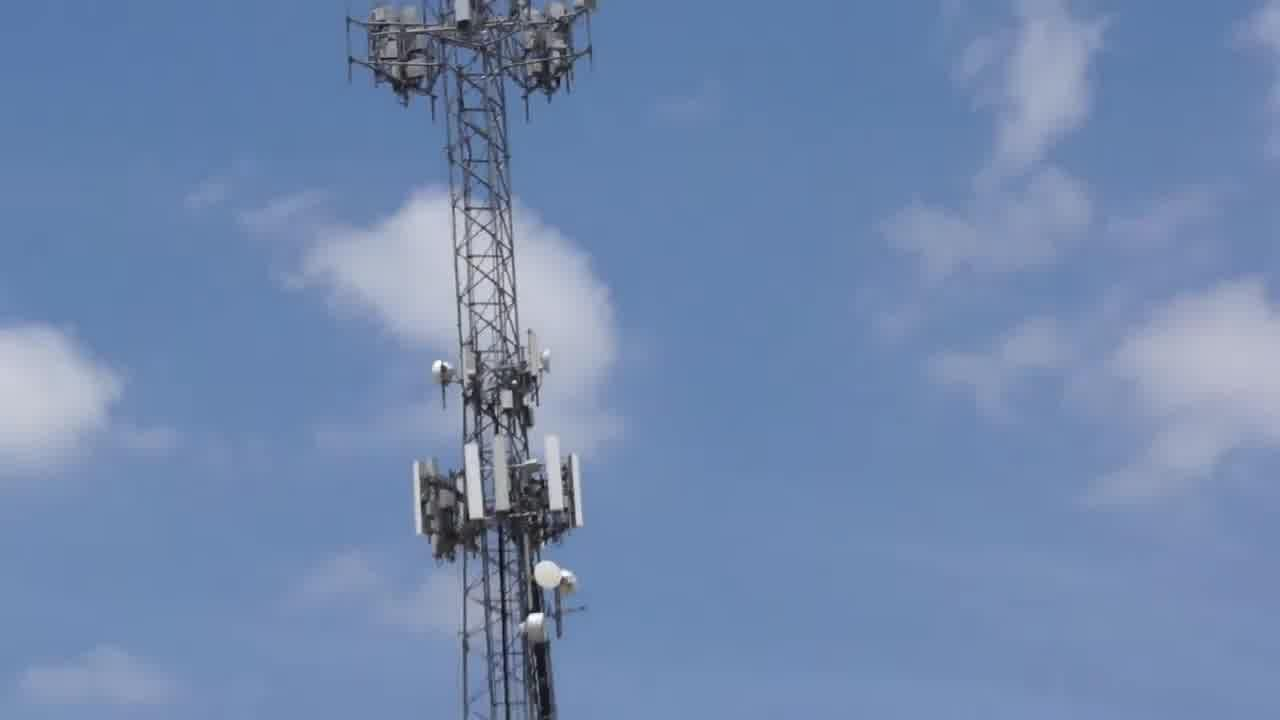Microwave Antenna: (517, 609, 556, 648), (428, 353, 461, 387), (534, 557, 567, 590), (558, 569, 589, 595), (536, 345, 561, 376)
antenna: (409, 442, 446, 559), (539, 423, 574, 544), (486, 414, 520, 529), (460, 429, 494, 538), (561, 430, 589, 541)
